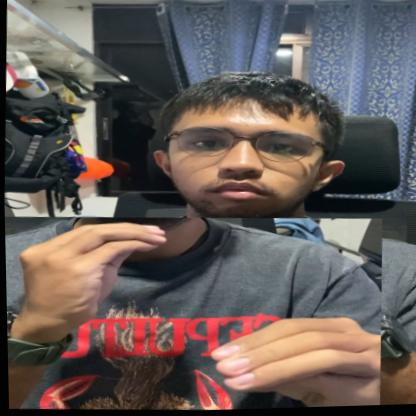Fix: (4, 208, 384, 416)
